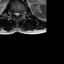CCS_normal: (16, 9, 18, 19)
LFS_stenosis: (20, 10, 22, 16)
LLS_stenosis: (18, 10, 20, 17)
RFS_stenosis: (11, 10, 14, 16)
RLS_normal: (14, 10, 16, 16)
